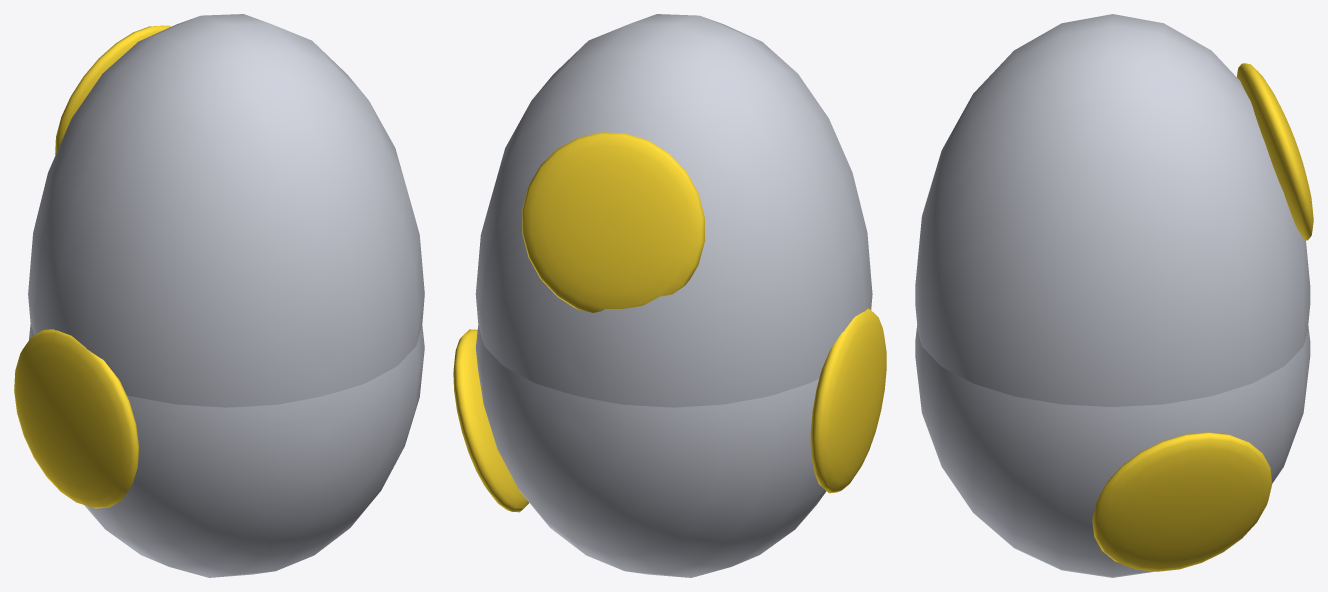
File: egg.glb
3 renders of one model, left to right at view 1: azimuth 30°, elevation 25°; view 2: azimuth 150°, elevation 25°; view 3: azimuth 270°, elevation 25°, orthographic.
Visible parts, largest first — view 1: mergedBlocks(Clone); view 2: mergedBlocks(Clone); view 3: mergedBlocks(Clone).
Boxes of the visible parts, bbox=[...] form: mergedBlocks(Clone): bbox=[14, 14, 424, 577]; mergedBlocks(Clone): bbox=[453, 14, 886, 577]; mergedBlocks(Clone): bbox=[915, 14, 1313, 577].
Bounding box in the file's own units: 1.08 × 1.5 × 1.01.
